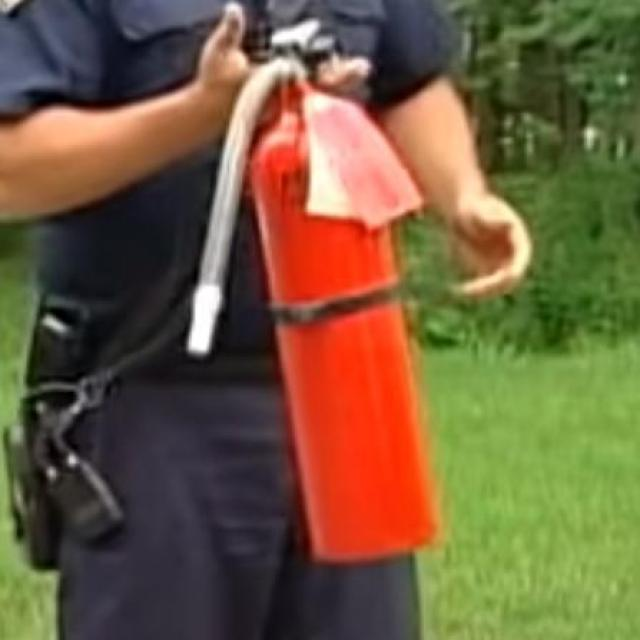fire_extinguisher: (176, 11, 443, 568)
